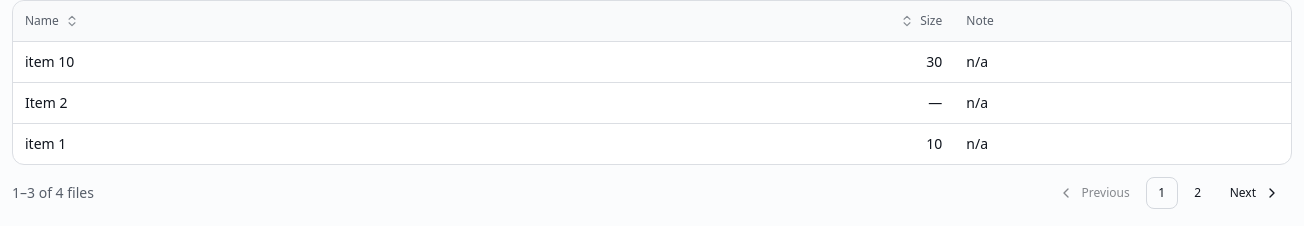
Scenario: DataTable › pages through rows and shows the range
Expected: the text "1–3 of 4 files" is shown, [12, 182, 94, 202]
Click the button with aria-label "Next page" at {"x": 1255, "y": 192}, box [1218, 176, 1292, 208]
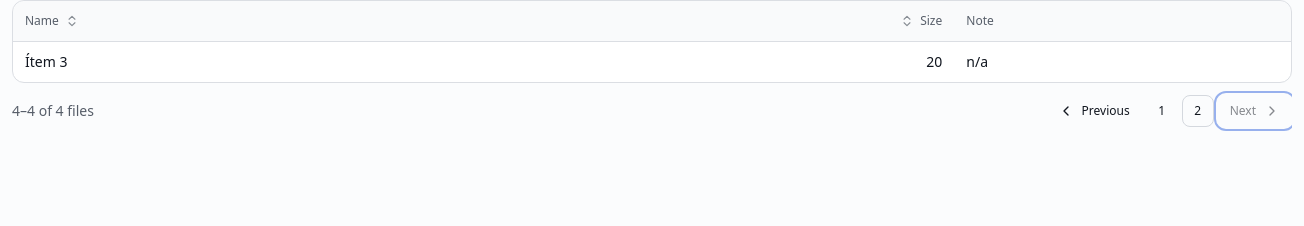
Expected: the text "4–4 of 4 files" is shown, [12, 100, 94, 120]
